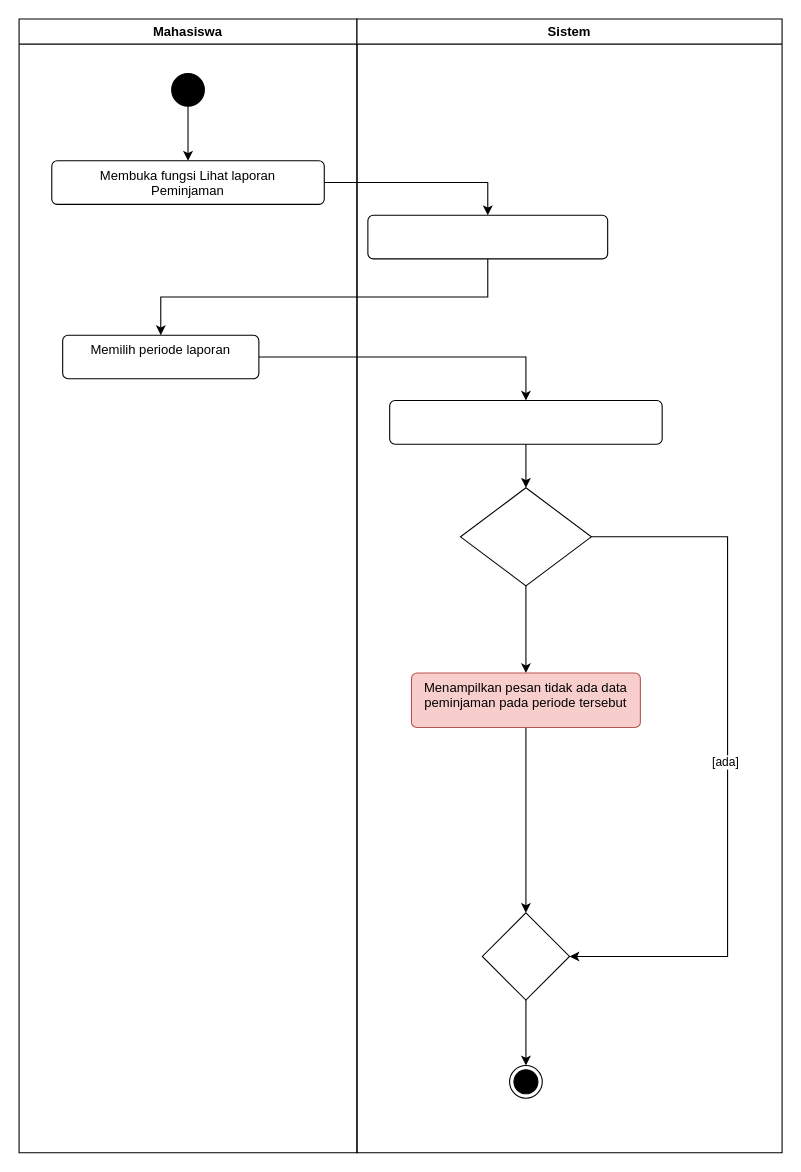
This 801x1172 diagram has some shape labels left out. The centre of each missing label's shape, as x and y in pixels:
"Ada data peminjaman?" goes at pixel 525 536.
"Menampilkan daftar Periode laporan" goes at pixel 487 236.
"Menampilkan laporan peminjaman periode yang dipilih" goes at pixel 525 421.
